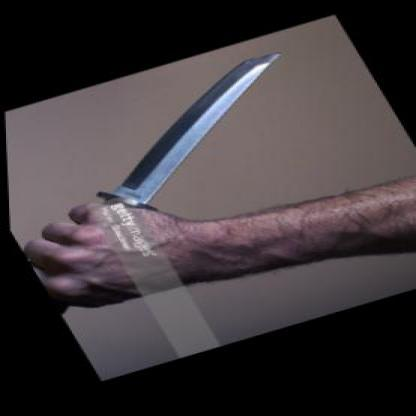knife: (2, 40, 367, 268)
